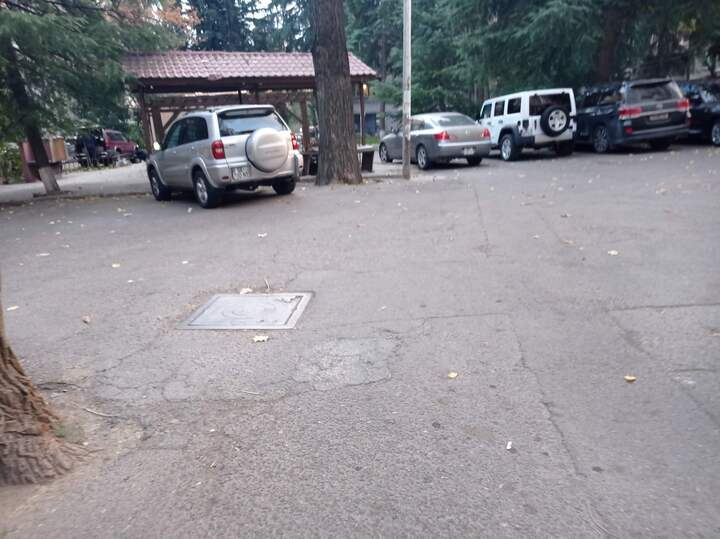plate: (231, 164, 250, 180), (648, 112, 668, 121), (462, 146, 475, 155)
